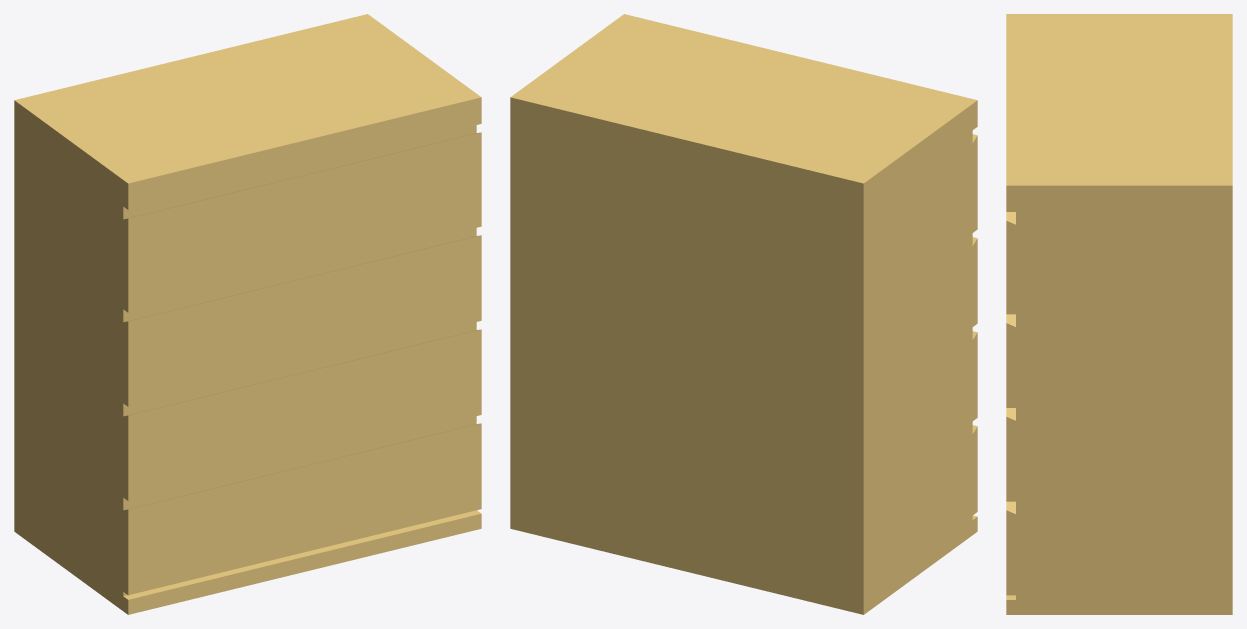
Rendered from Drawer_small_1091_608_1272.fbx.
3 renders of one model, left to right at view 1: azimuth 30°, elevation 25°; view 2: azimuth 150°, elevation 25°; view 3: azimuth 270°, elevation 25°, orthographic.
Visible parts, largest first — view 1: Drawer_small_1091_608_1272; view 2: Drawer_small_1091_608_1272; view 3: Drawer_small_1091_608_1272.
Part boxes in pixels (bbox=[...]): Drawer_small_1091_608_1272: bbox=[14, 14, 481, 614]; Drawer_small_1091_608_1272: bbox=[510, 14, 977, 614]; Drawer_small_1091_608_1272: bbox=[1006, 14, 1232, 614].
Size of the model in its own units: 109 by 127 by 60.87.
